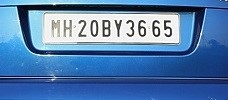MH20BY3665: (43, 14, 179, 43)
